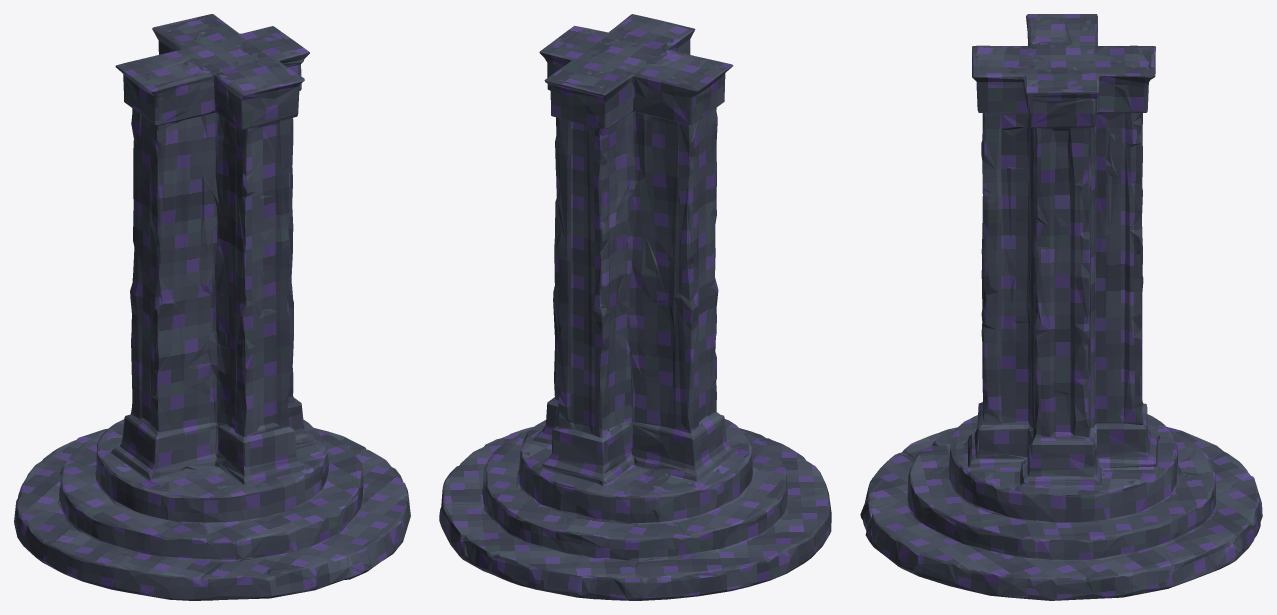
File: solitude-pillar-1.collider.glb
3 renders of one model, left to right at view 1: azimuth 30°, elevation 25°; view 2: azimuth 150°, elevation 25°; view 3: azimuth 270°, elevation 25°, orthographic.
Parts seen in each view (by area): view 1: temp_mesh.ply; view 2: temp_mesh.ply; view 3: temp_mesh.ply.
Boxes of the visible parts, left/top/right/bottom form: temp_mesh.ply: left=14, top=14, right=410, bottom=600; temp_mesh.ply: left=439, top=14, right=831, bottom=600; temp_mesh.ply: left=860, top=14, right=1262, bottom=600.
Size of the model in its own units: 1.54 by 1.97 by 1.54.
Materials: 1 (1 with a texture image).
